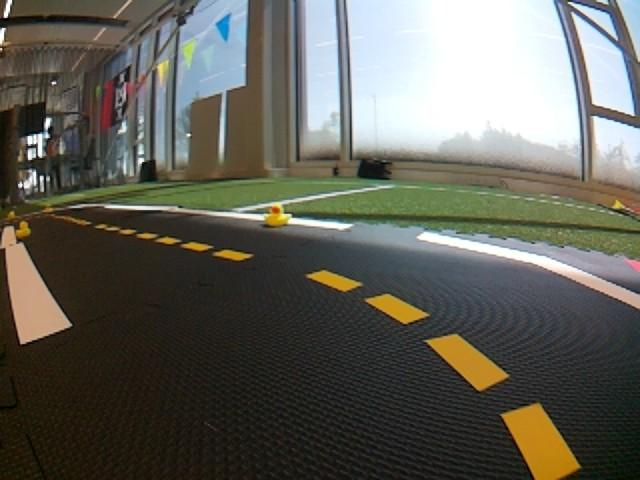Duckies: (262, 205, 291, 226), (16, 221, 31, 237), (43, 204, 54, 213), (8, 211, 16, 219)
